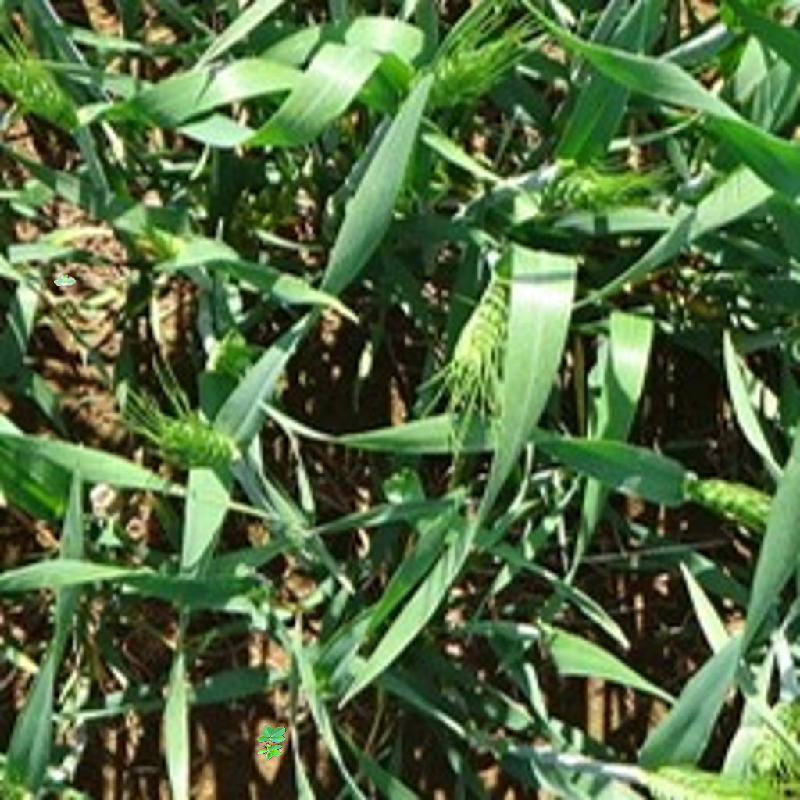spikelet: (444, 283, 509, 398), (411, 45, 511, 102), (642, 762, 775, 800), (1, 50, 76, 117), (691, 477, 777, 527), (152, 418, 239, 466), (532, 167, 639, 205), (208, 340, 254, 373), (149, 224, 193, 258)
weed: (250, 720, 294, 764), (54, 274, 76, 286)
